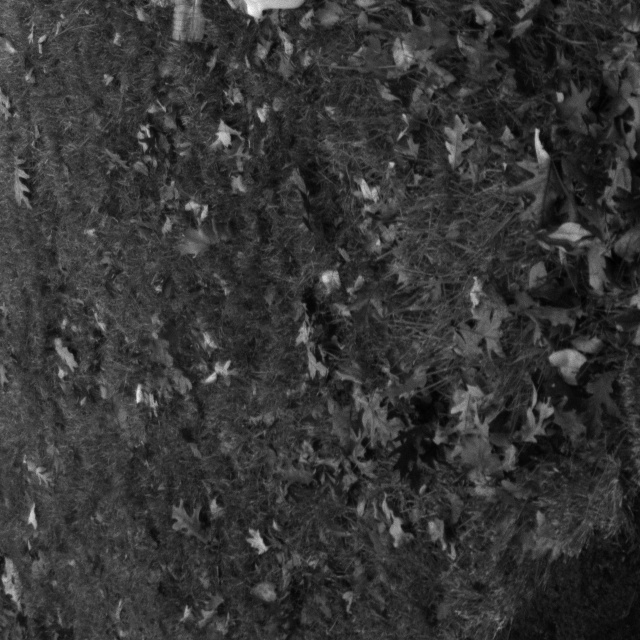bottle: (156, 0, 213, 56)
